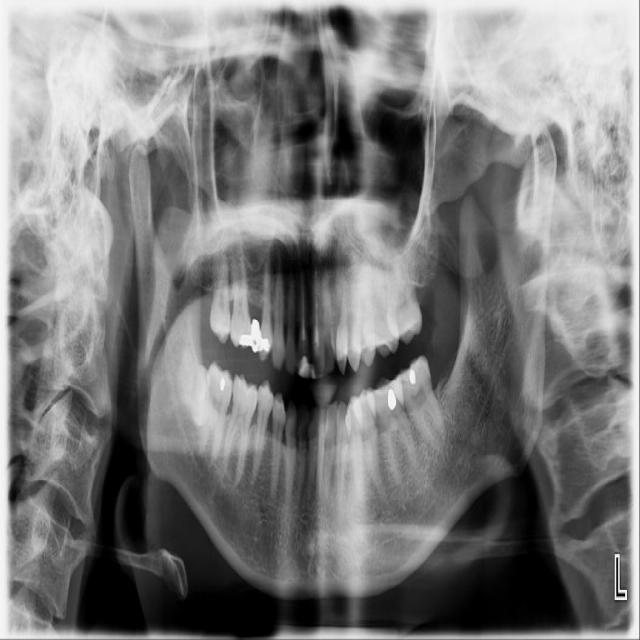Crown: (238, 318, 272, 352)
Filling: (367, 375, 408, 437), (395, 355, 433, 417), (205, 360, 235, 406), (296, 335, 311, 378)
impacted tooth: (178, 346, 208, 425)
